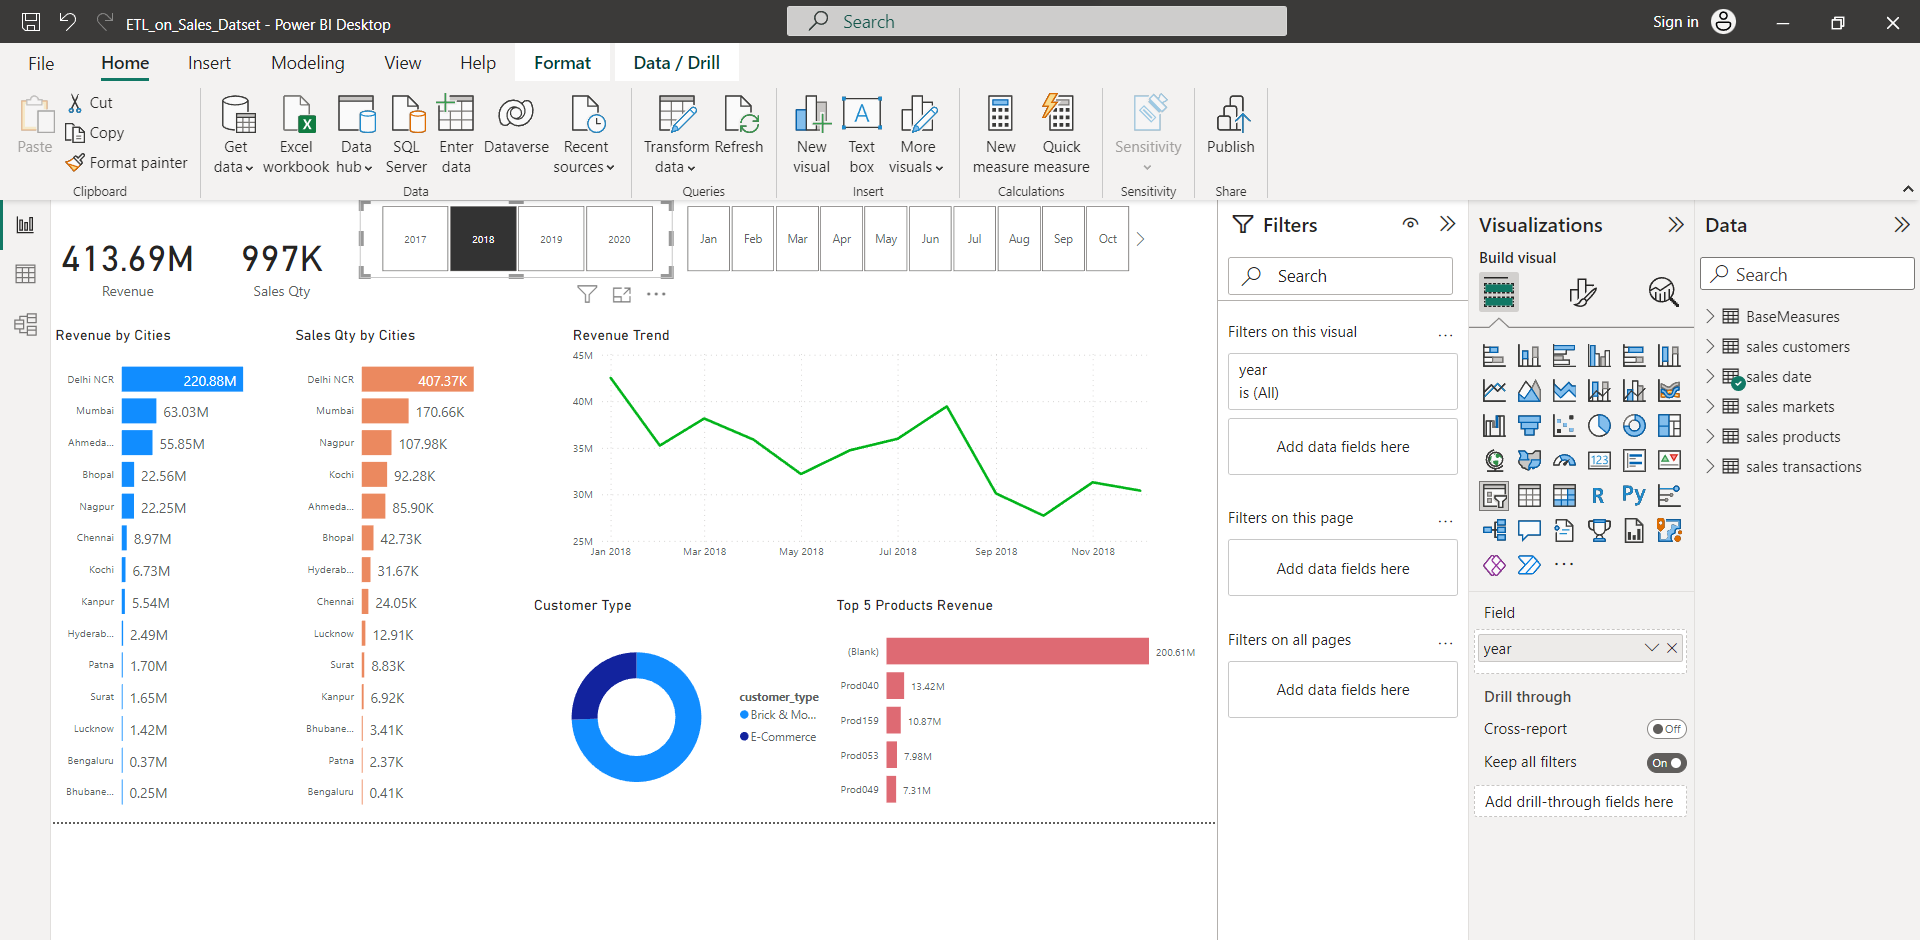

Layout of this report page (visuals, bound fields, positions):
{"tool":"powerbi","page":{"name":"Page 1","canvas":[1350,720],"ordinal":0},"visuals":[{"type":"card","fields":{"Values":["BaseMeasures.Revenue"]},"box":[0,0,177.5,146.2],"z":0},{"type":"card","fields":{"Values":["BaseMeasures.Sales Qty"]},"box":[177.5,0,178.8,146.2],"z":1000},{"type":"barChart","title":"Revenue by Cities","fields":{"Y":["BaseMeasures.Revenue"],"Category":["sales markets.markets_name"]},"box":[0,146.2,277.5,573.8],"z":2000},{"type":"barChart","title":"Sales Qty by Cities","fields":{"Y":["BaseMeasures.Sales Qty"],"Category":["sales markets.markets_name"]},"box":[277.5,146.2,277.5,573.8],"z":3000},{"type":"slicer","fields":{"Values":["sales date.year"]},"box":[356.9,0,363,89.5],"z":4000},{"type":"slicer","fields":{"Values":["sales date.cy_date"]},"box":[710.1,0,561.7,89.5],"z":5000},{"type":"donutChart","title":"Customer Type","fields":{"Category":["sales customers.customer_type"],"Y":["BaseMeasures.Revenue"],"Series":["sales customers.customer_type"]},"box":[554.3,458.7,349.5,261.2],"z":6000},{"type":"barChart","title":"Top 5 Products Revenue","fields":{"Y":["BaseMeasures.Revenue"],"Category":["sales products.product_code"]},"box":[903.8,458.7,446.4,261.2],"z":7000},{"type":"lineChart","title":"Revenue Trend","fields":{"Y":["BaseMeasures.Revenue"],"Category":["sales date.cy_date"]},"box":[598.5,145.9,692.9,278.4],"z":8000}]}

Visuals, with their boxes on the page's 1350x720 design canvas (x1, y1, x2, y2). These are canvas units, not pixel positions in the 1920x940 screenshot, which may show the page scaled, cropped or inside an application window:
card - BaseMeasures.Revenue: 0/0/178/146
card - BaseMeasures.Sales Qty: 178/0/356/146
"Revenue by Cities" barChart: 0/146/278/720
"Sales Qty by Cities" barChart: 278/146/555/720
slicer - sales date.year: 357/0/720/90
slicer - sales date.cy_date: 710/0/1272/90
"Customer Type" donutChart: 554/459/904/720
"Top 5 Products Revenue" barChart: 904/459/1350/720
"Revenue Trend" lineChart: 598/146/1291/424
